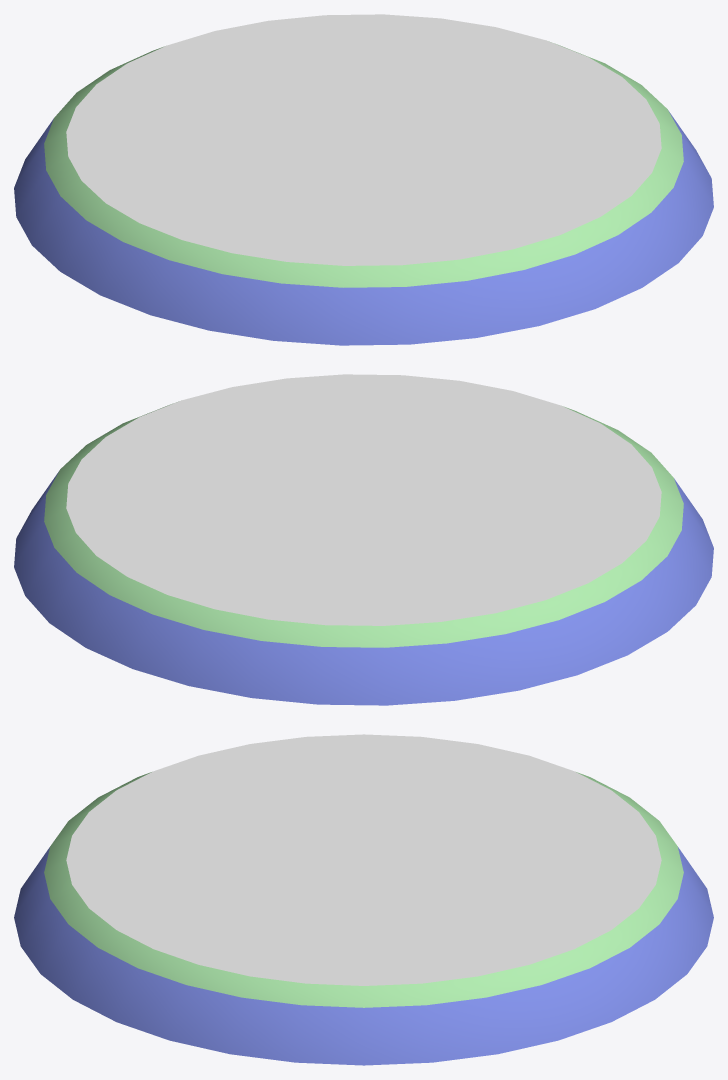
The model's file is 荷物初期土台.fbx.
The picture shows the model from 3 angles, top to bottom: view 1: azimuth 30°, elevation 25°; view 2: azimuth 150°, elevation 25°; view 3: azimuth 270°, elevation 25°; orthographic projection.
Parts seen in each view (by area): view 1: 円柱; view 2: 円柱; view 3: 円柱.
Part boxes in pixels (x1,y1,x2,y2): 円柱: (14, 14, 713, 345); 円柱: (14, 374, 713, 705); 円柱: (14, 734, 713, 1065).
Size of the model in its own units: 434 by 39.29 by 434.
